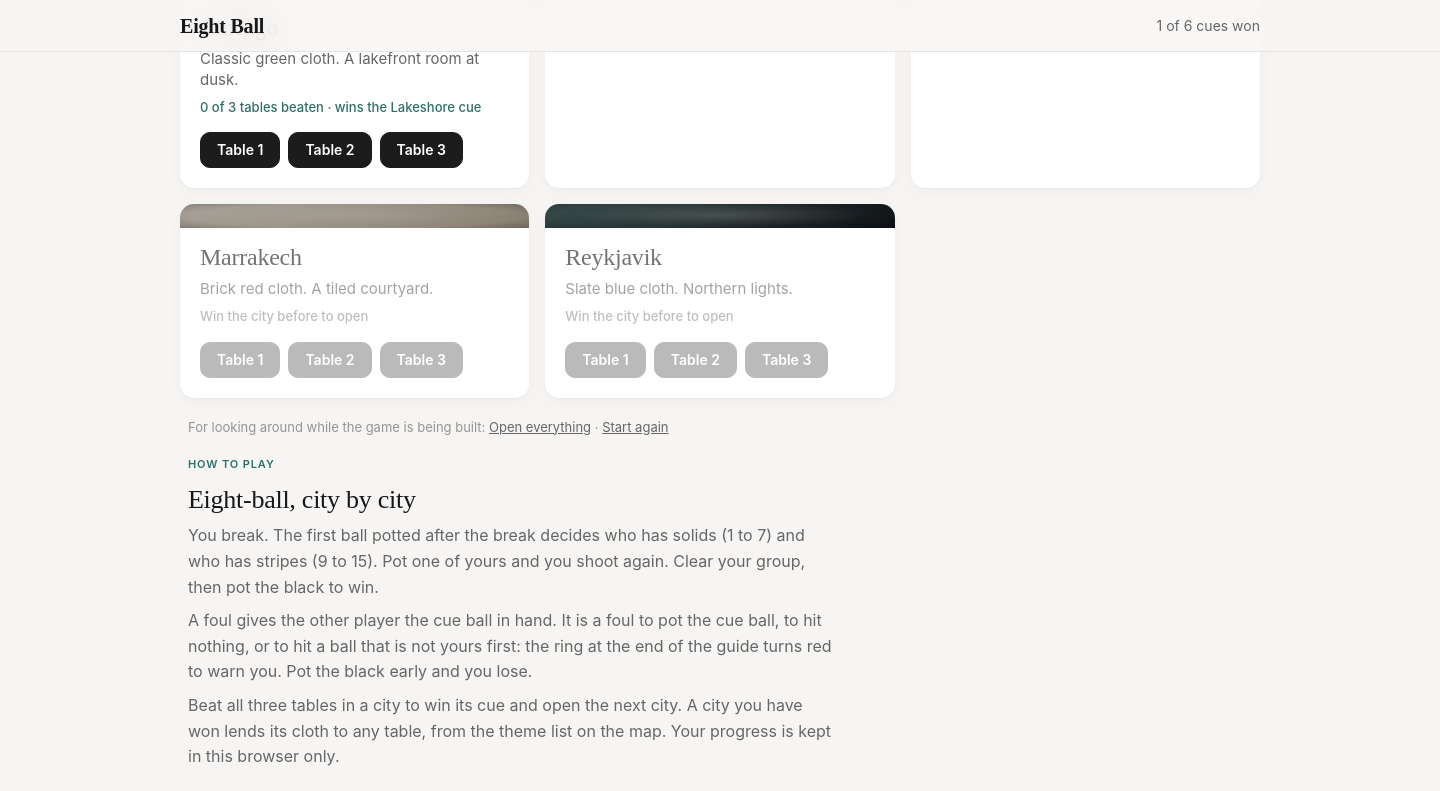
Test: the map › offers no theme until a city is won, then the cities won
(page scrolled)
Click the button "Open everything".
click(540, 427)  # box [489,418,591,436]
(page scrolled)
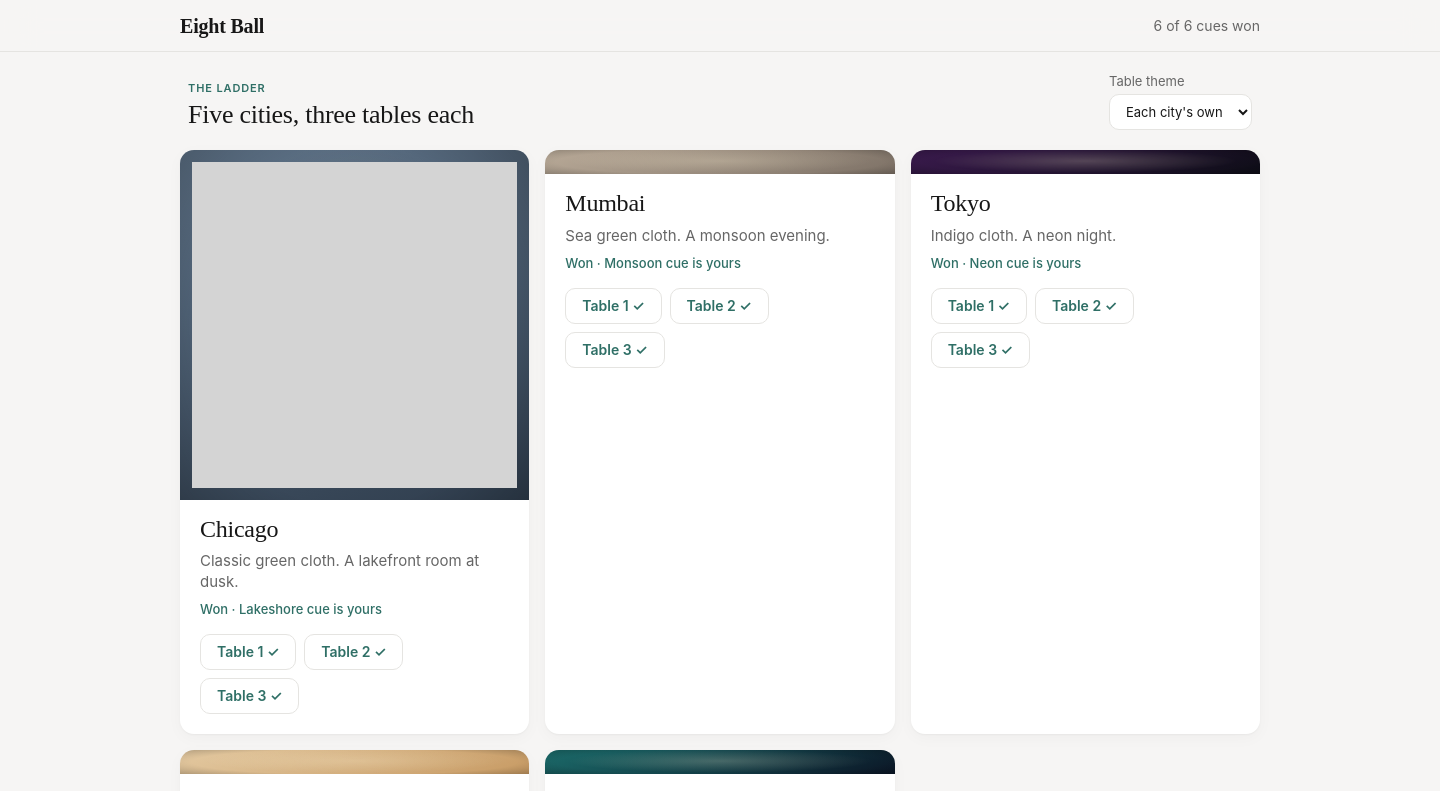
Check: the dropdown labelled "Table theme" is enabled, box [1109,94,1252,130]
